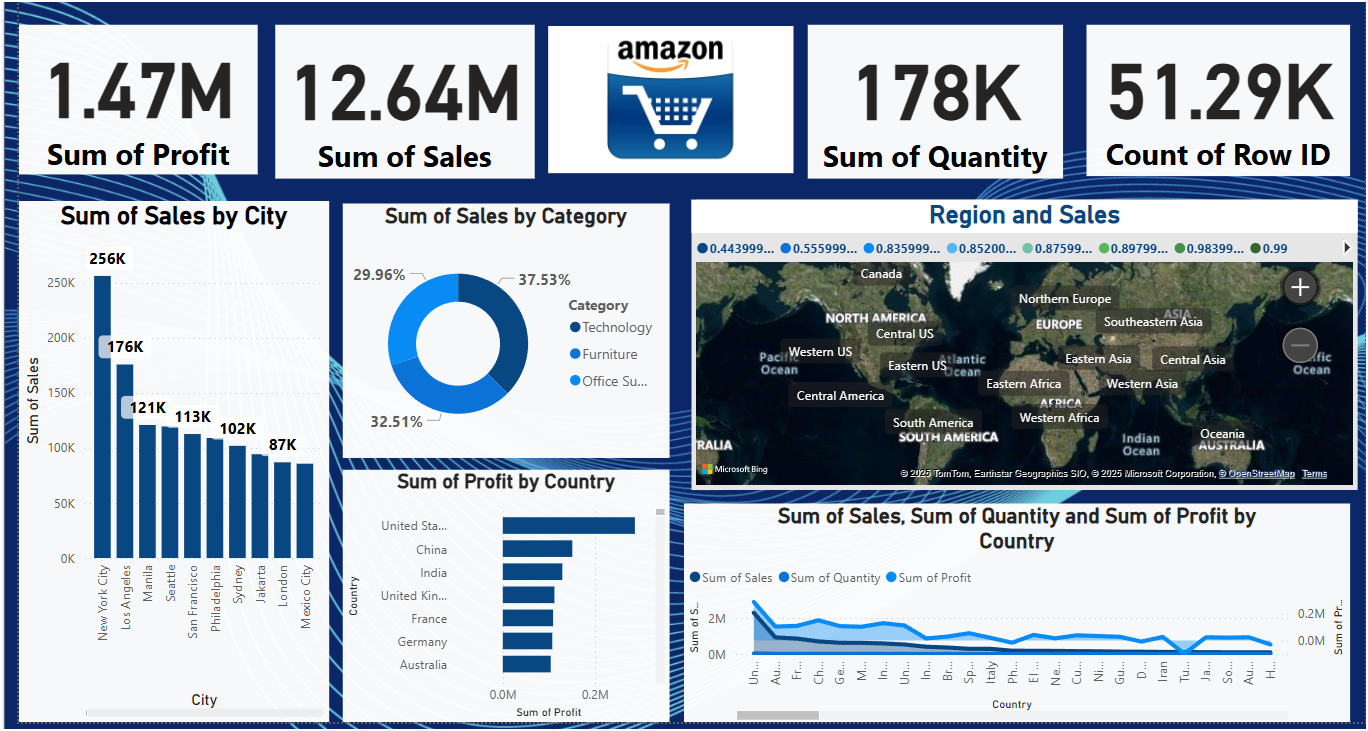

This screenshot's page, from the dashboard's own definition file:
{"tool":"powerbi","page":{"name":"Page 1","canvas":[1295,708],"ordinal":0},"visuals":[{"type":"map","fields":{"Category":["Orders.Region"],"Series":["Orders.Sales"]},"box":[639.5,205.4,640.8,278.8],"z":0},{"type":"donutChart","fields":{"Category":["Orders.Category"],"Y":["Sum(Orders.Sales)"]},"box":[311.8,209.1,314.3,244.6],"z":1000},{"type":"lineClusteredColumnComboChart","fields":{"Y":["Sum(Orders.Sales)"],"Category":["Orders.City"]},"box":[0,205.4,298.4,501.4],"z":2000},{"type":"card","fields":{"Values":["Sum(Orders.Profit)"]},"box":[0,37.3,229.7,144.3],"z":3000},{"type":"card","fields":{"Values":["Sum(Orders.Sales)"]},"box":[247,36.7,249.5,148],"z":4000},{"type":"card","fields":{"Values":["CountNonNull(Orders.Row ID)"]},"box":[1026.9,37.3,253.7,145.5],"z":5000},{"type":"card","fields":{"Values":["Sum(Orders.Quantity)"]},"box":[758.7,37.3,245.3,147.9],"z":6000},{"type":"clusteredBarChart","fields":{"Y":["Sum(Orders.Profit)"],"Category":["Orders.Country"]},"box":[311.8,465.9,314.3,244.6],"z":7000},{"type":"lineChart","fields":{"Category":["Orders.Country"],"Y":["Sum(Orders.Sales)","Sum(Orders.Quantity)"],"Y2":["Sum(Orders.Profit)"]},"box":[639.5,497.7,640.8,212.8],"z":8000},{"type":"image","box":[502.6,34.2,248.2,151.6],"z":9000}]}

Visuals, with their boxes in screenshot pixels (x1, y1, x2, y2), scaled from the page's 1295x708 canvas onto the 1368x731 screenshot:
map - Orders.Region x Orders.Sales: [x1=676, y1=212, x2=1352, y2=500]
donutChart - Orders.Category x Sum(Orders.Sales): [x1=329, y1=216, x2=661, y2=468]
lineClusteredColumnComboChart - Sum(Orders.Sales) x Orders.City: [x1=0, y1=212, x2=315, y2=730]
card - Sum(Orders.Profit): [x1=0, y1=39, x2=243, y2=187]
card - Sum(Orders.Sales): [x1=261, y1=38, x2=524, y2=191]
card - CountNonNull(Orders.Row ID): [x1=1085, y1=39, x2=1353, y2=189]
card - Sum(Orders.Quantity): [x1=801, y1=39, x2=1061, y2=191]
clusteredBarChart - Sum(Orders.Profit) x Orders.Country: [x1=329, y1=481, x2=661, y2=730]
lineChart - Orders.Country x Sum(Orders.Sales): [x1=676, y1=514, x2=1352, y2=730]
image: [x1=531, y1=35, x2=793, y2=192]
